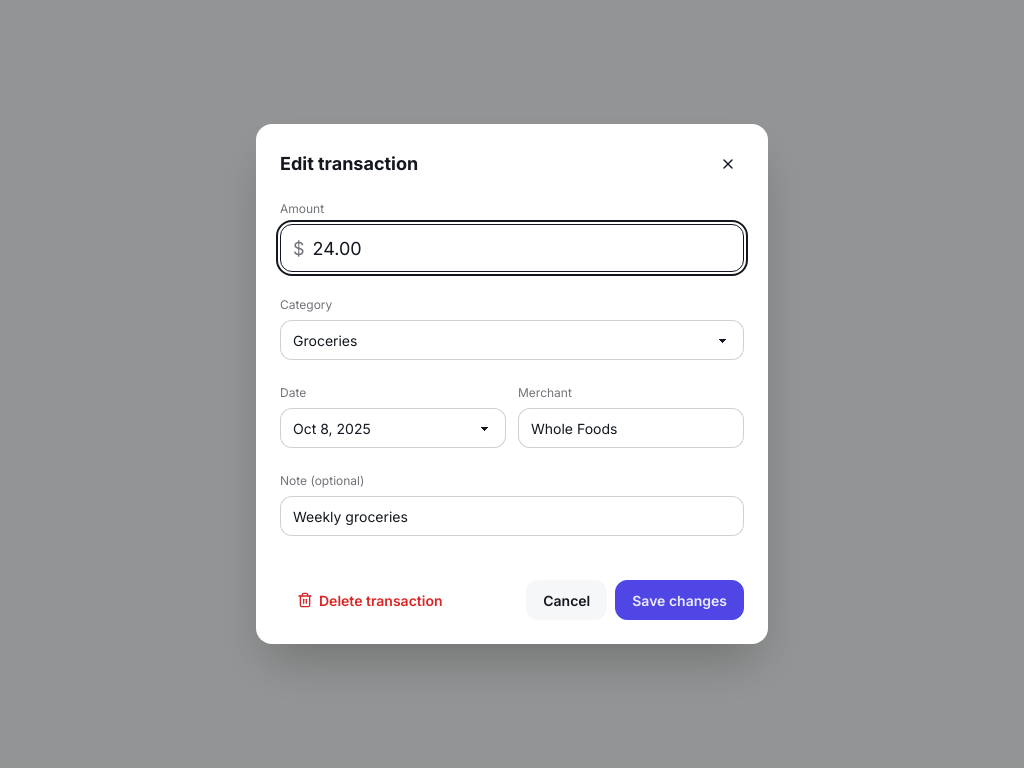
AC3: a successful save › confirms the save in the toast region
The image size is (1024, 768).
Type " Market" into the field labelled "Merchant" at [631, 428], box left=518, top=408, right=744, bottom=448
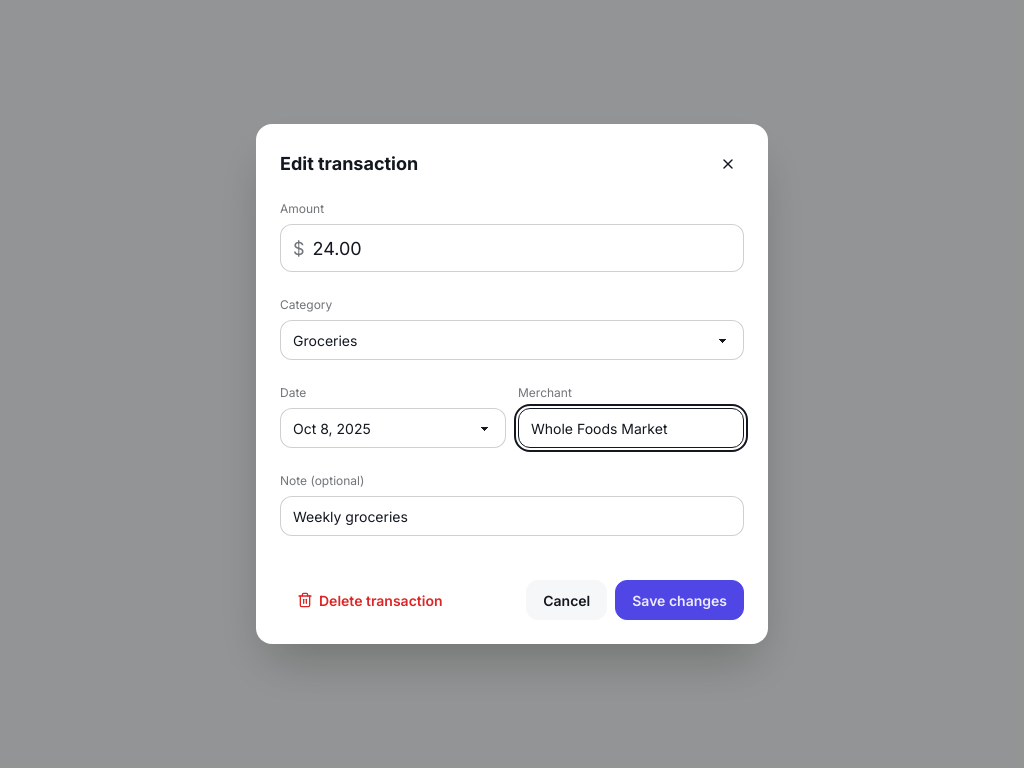
Click the button "Save changes" at [680, 600], box left=615, top=580, right=744, bottom=620
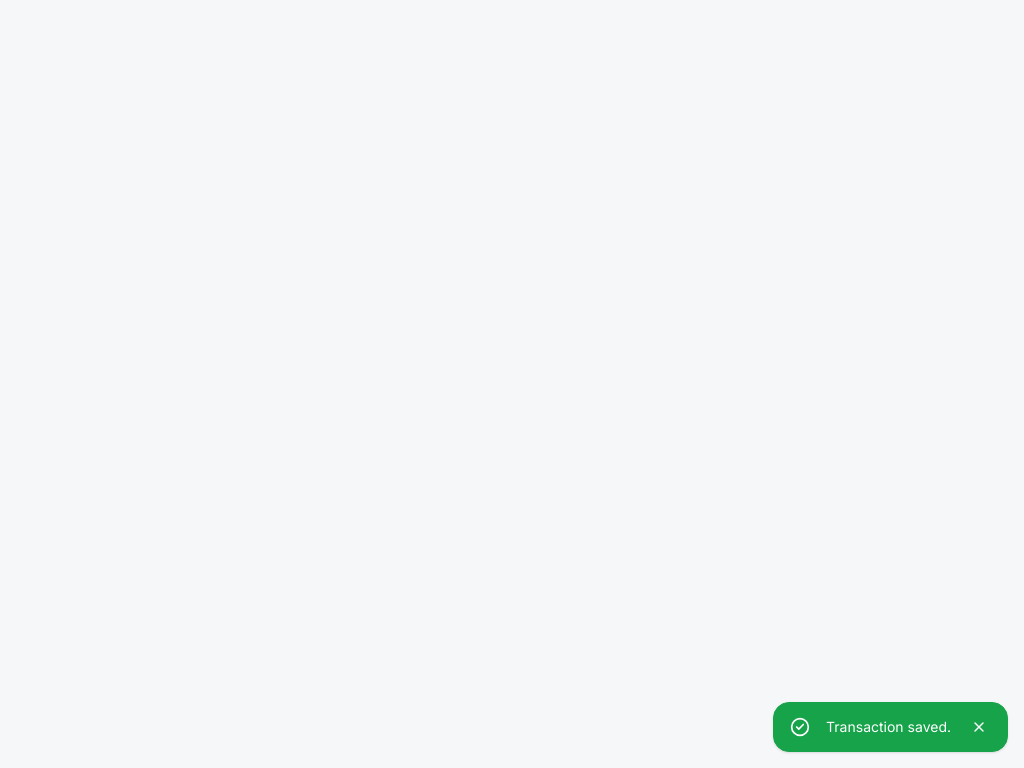
Expected: the text "Transaction saved." is shown, left=826, top=717, right=951, bottom=737
